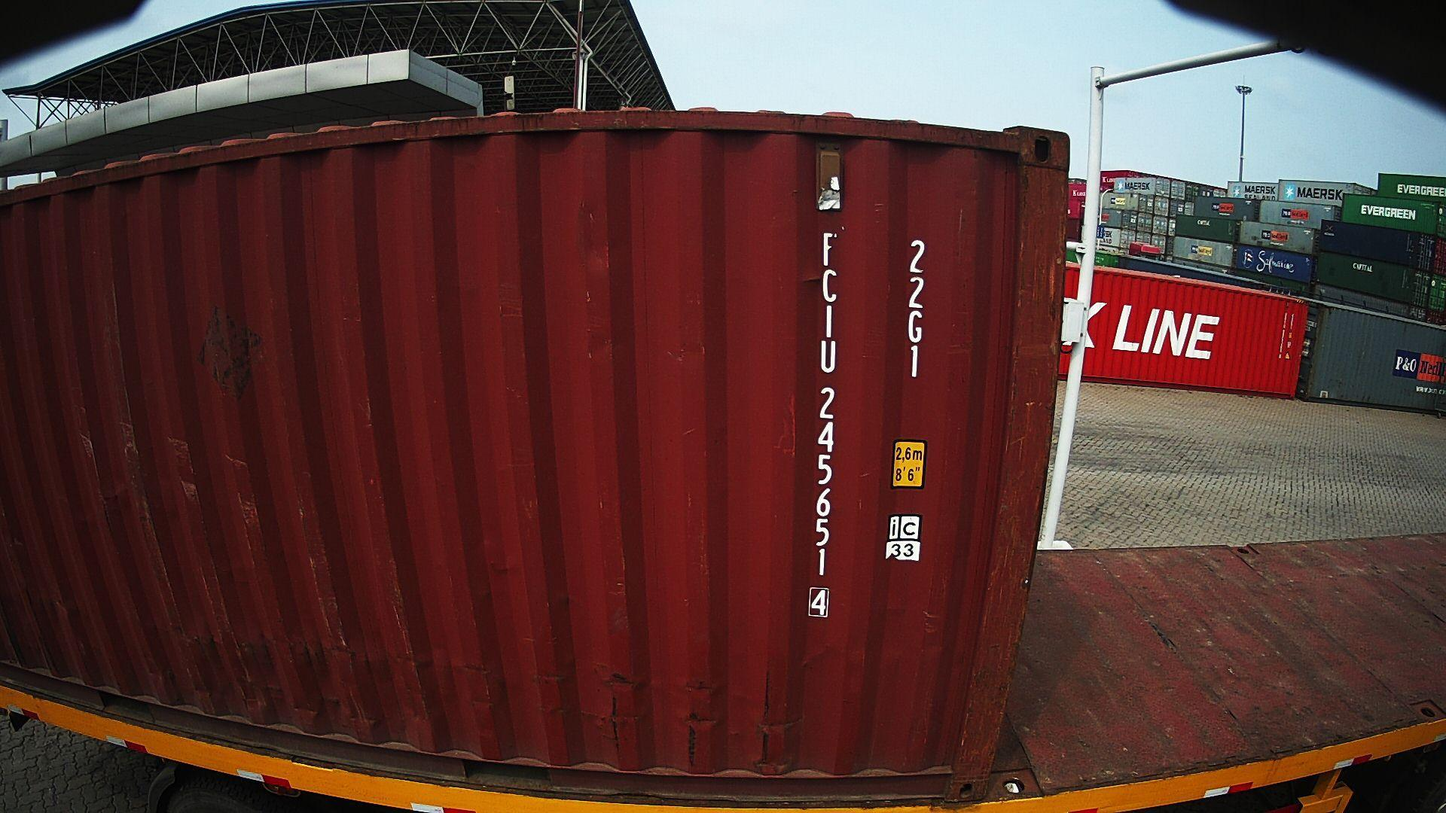container-numbers: (802, 223, 847, 624), (900, 236, 930, 383)
